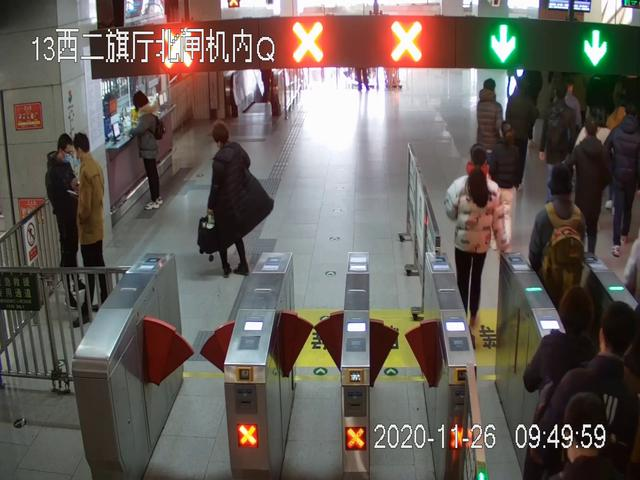person: (546, 304, 640, 480), (444, 144, 509, 332), (197, 126, 274, 279), (530, 166, 586, 357), (71, 135, 112, 325), (44, 134, 87, 305), (571, 118, 614, 264), (539, 86, 579, 221), (606, 104, 639, 257), (128, 91, 165, 210), (475, 77, 506, 192)
